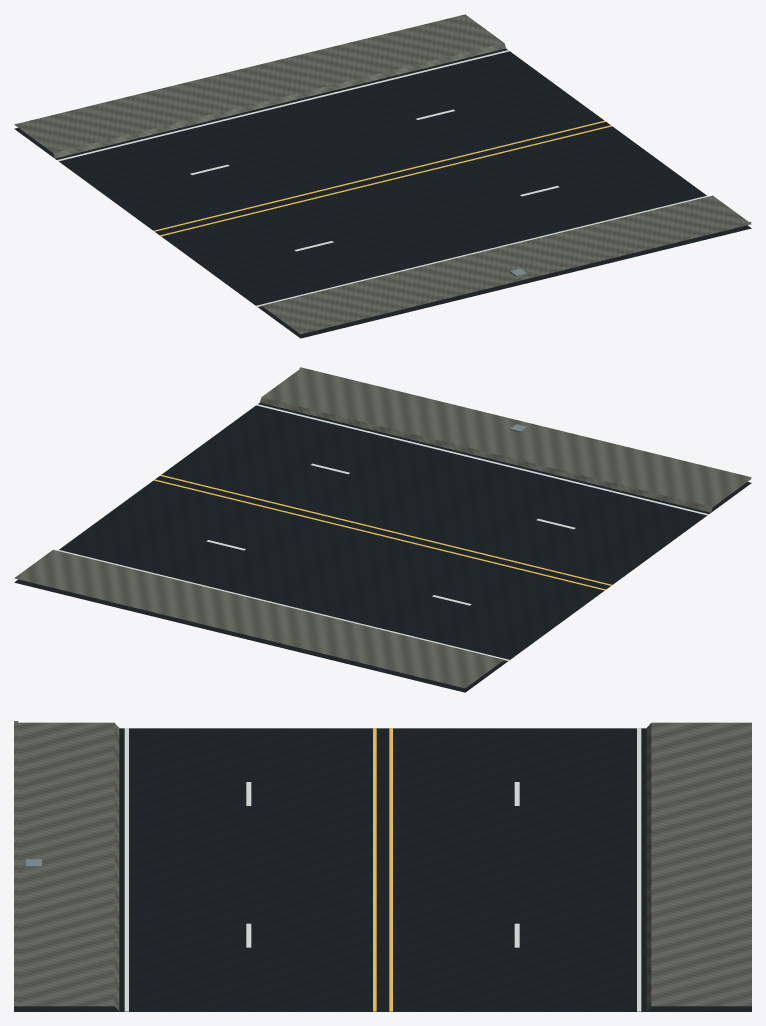
Rendered from road_ring_4lane_16m_LOD1.glb.
3 views of the same model, one above another, from view 1: azimuth 30°, elevation 25°; view 2: azimuth 150°, elevation 25°; view 3: azimuth 270°, elevation 25° (orthographic). The views are drawn at different scales.
Visible parts, largest first — view 1: road_ring_4lane_16m__surface.001, road_ring_4lane_16m__markings.001, road_ring_4lane_16m__outer_curb_and_mounts.001; view 2: road_ring_4lane_16m__surface.001, road_ring_4lane_16m__markings.001, road_ring_4lane_16m__outer_curb_and_mounts.001; view 3: road_ring_4lane_16m__surface.001, road_ring_4lane_16m__markings.001, road_ring_4lane_16m__outer_curb_and_mounts.001.
Boxes of the visible parts, <box> form: road_ring_4lane_16m__surface.001: <box>14,14,751,338</box>; road_ring_4lane_16m__markings.001: <box>57,50,707,306</box>; road_ring_4lane_16m__outer_curb_and_mounts.001: <box>299,222,751,332</box>; road_ring_4lane_16m__surface.001: <box>14,369,751,692</box>; road_ring_4lane_16m__markings.001: <box>57,404,708,660</box>; road_ring_4lane_16m__outer_curb_and_mounts.001: <box>299,367,751,478</box>; road_ring_4lane_16m__surface.001: <box>14,722,751,1011</box>; road_ring_4lane_16m__markings.001: <box>124,728,641,1011</box>; road_ring_4lane_16m__outer_curb_and_mounts.001: <box>14,721,41,1004</box>.
Size of the model in its own units: 16 by 0.1955 by 17.6.
Materials: 6 (3 with a texture image).
